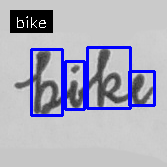b: (32, 48, 60, 117)
e: (127, 70, 155, 108)
i: (65, 61, 86, 110)
k: (93, 46, 124, 111)
